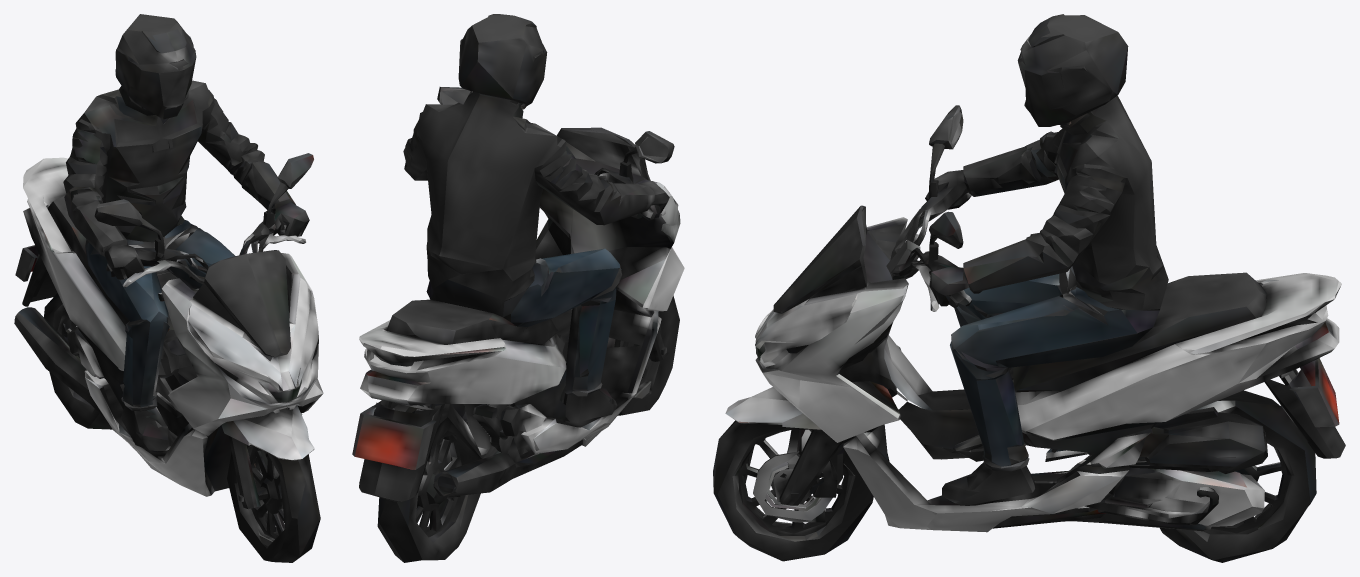
Rendered from pcx_lod2.glb.
3 views of the same model, side by side, from view 1: azimuth 30°, elevation 25°; view 2: azimuth 150°, elevation 25°; view 3: azimuth 270°, elevation 25° (orthographic). The views are drawn at different scales.
Visible parts, largest first — view 1: tripo_node_4c8b07a1; view 2: tripo_node_4c8b07a1; view 3: tripo_node_4c8b07a1.
Part boxes in pixels (x1,y1,x2,y2): tripo_node_4c8b07a1: (14, 14, 323, 562); tripo_node_4c8b07a1: (352, 14, 684, 562); tripo_node_4c8b07a1: (713, 14, 1345, 562).
Bounding box in the file's own units: 46.76 × 92.19 × 99.49.
1 material, 1 textured.
